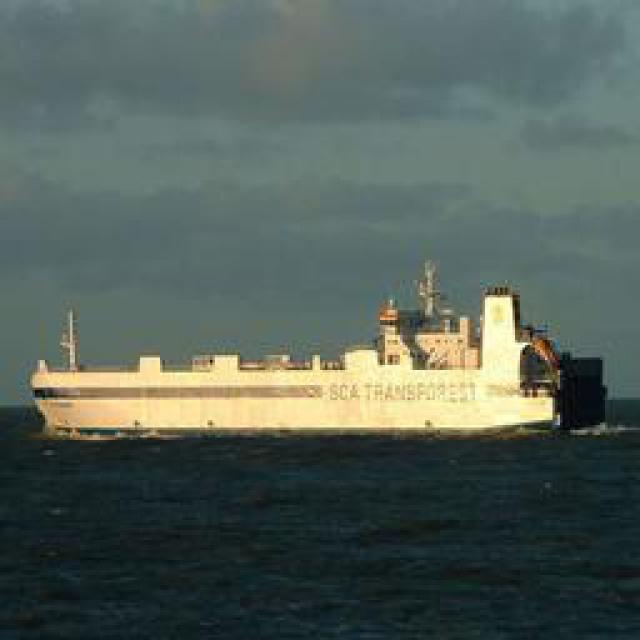Ship: (32, 345, 565, 440)
